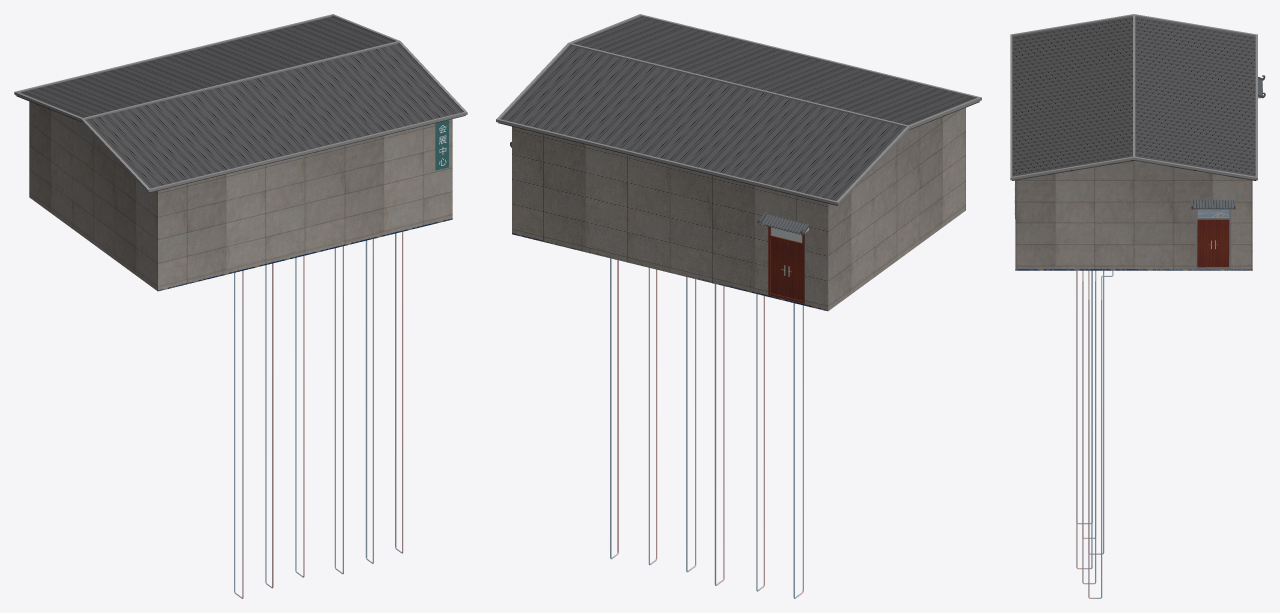
The model's file is 会展中心.fbx.
3 views of the same model, side by side, from view 1: azimuth 30°, elevation 25°; view 2: azimuth 150°, elevation 25°; view 3: azimuth 270°, elevation 25° (orthographic). The views are drawn at different scales.
Visible parts, largest first — view 1: Box170, 对象388, Line189, 图形026, Line193, 图形028, Box527; view 2: Box170, 对象388, Line189, 图形026, 图形028, Line193, 对象402, 对象401; view 3: 对象388, Box170, Line189, 图形026, Line193, 图形028, 对象395, 对象396, 对象389, 对象397, 对象400.
Part boxes in pixels (x1,y1,x2,y2): Box170: (29,101,452,291); 对象388: (16,16,465,192); Line189: (234,232,403,598); 图形026: (14,14,467,192); Line193: (239,232,402,598); 图形028: (234,233,398,595); Box527: (435,120,448,170); Box170: (512,108,965,311); 对象388: (498,16,979,205); Line189: (610,258,803,598); 图形026: (496,14,981,205); 图形028: (610,258,798,598); Line193: (614,260,803,595); 对象402: (786,242,802,300); 对象401: (771,238,787,296); 对象388: (1012,16,1256,180); Box170: (1015,161,1252,270); Line189: (1076,270,1113,598); 图形026: (1010,14,1257,180); Line193: (1076,271,1094,598); 图形028: (1085,271,1113,598); 对象395: (1197,219,1213,267); 对象396: (1213,219,1229,267); 对象389: (1015,209,1252,270); 对象397: (1195,209,1231,269); 对象400: (1191,198,1235,209).
Bounding box in the file's own units: 76.83 × 113 × 57.73.
